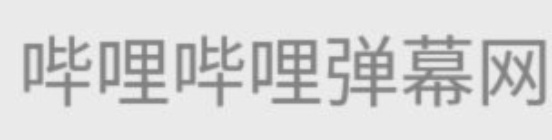TextView: (1, 1, 551, 139)
